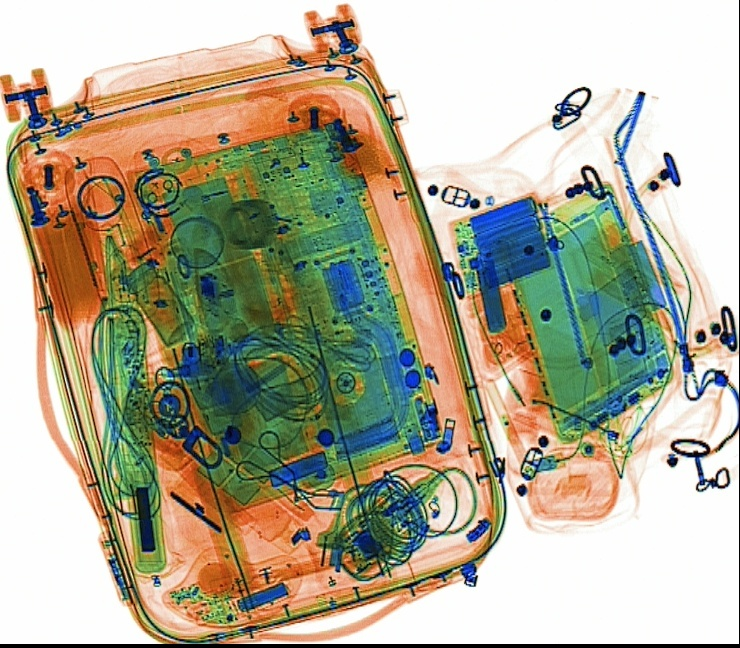powerbank: (445, 187, 556, 302)
